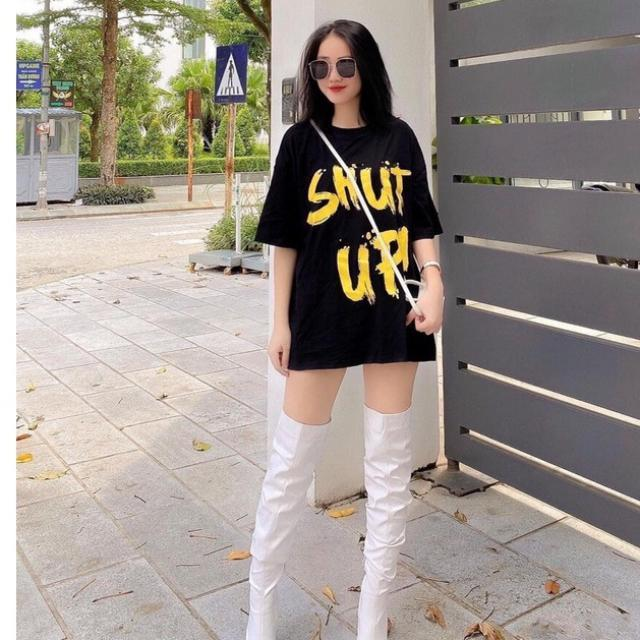Shirt: (252, 117, 451, 370)
